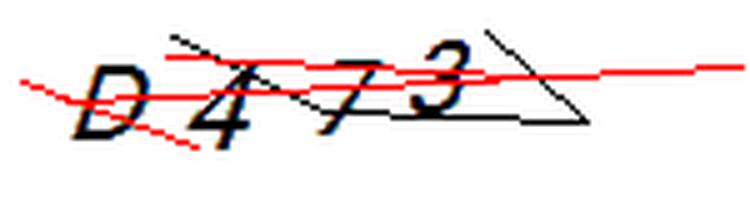3: (407, 32, 484, 124)
4: (177, 55, 263, 163)
7: (310, 53, 390, 140)
D: (64, 56, 162, 157)
